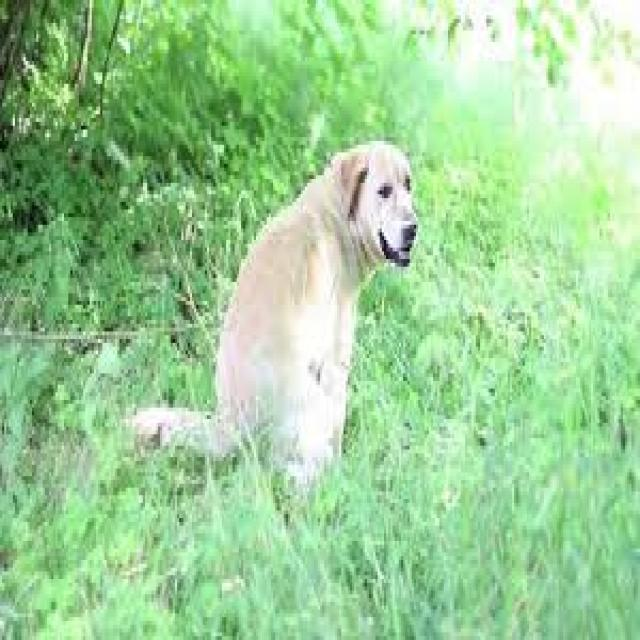Dogpoop: (147, 142, 420, 496)
